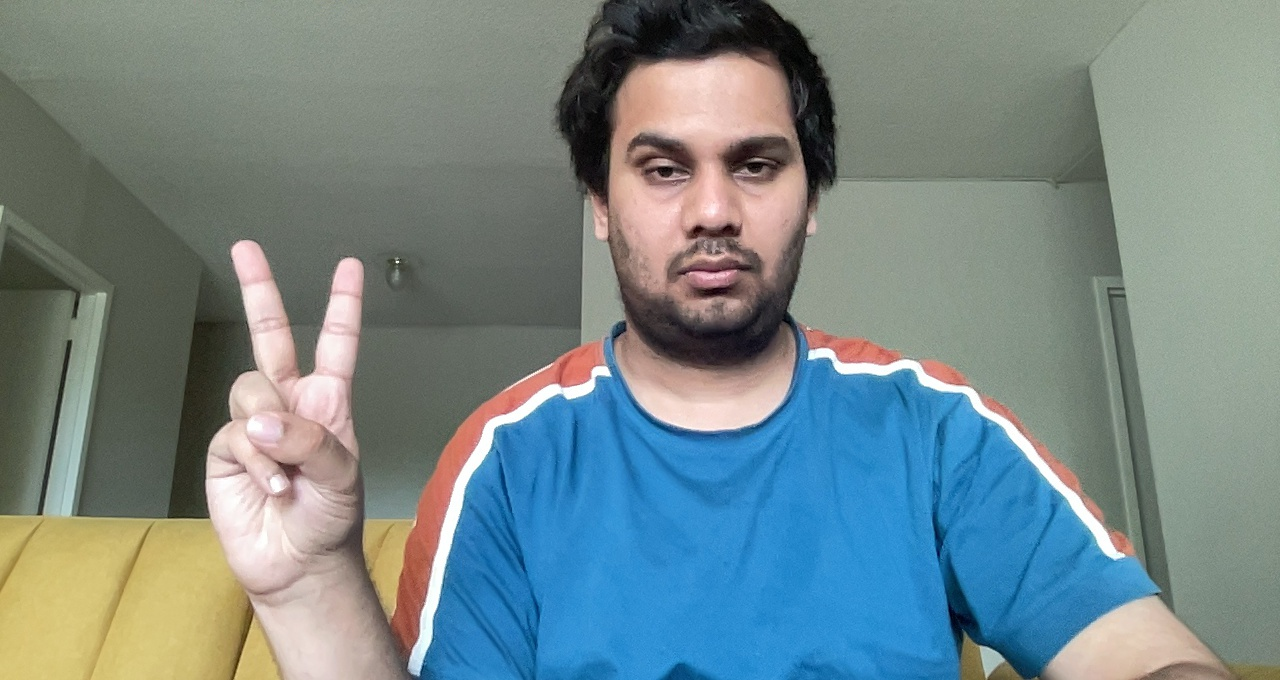peace sign: (186, 231, 392, 602)
